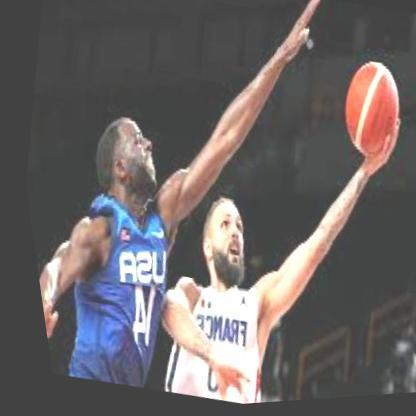basketball: (327, 59, 410, 166)
